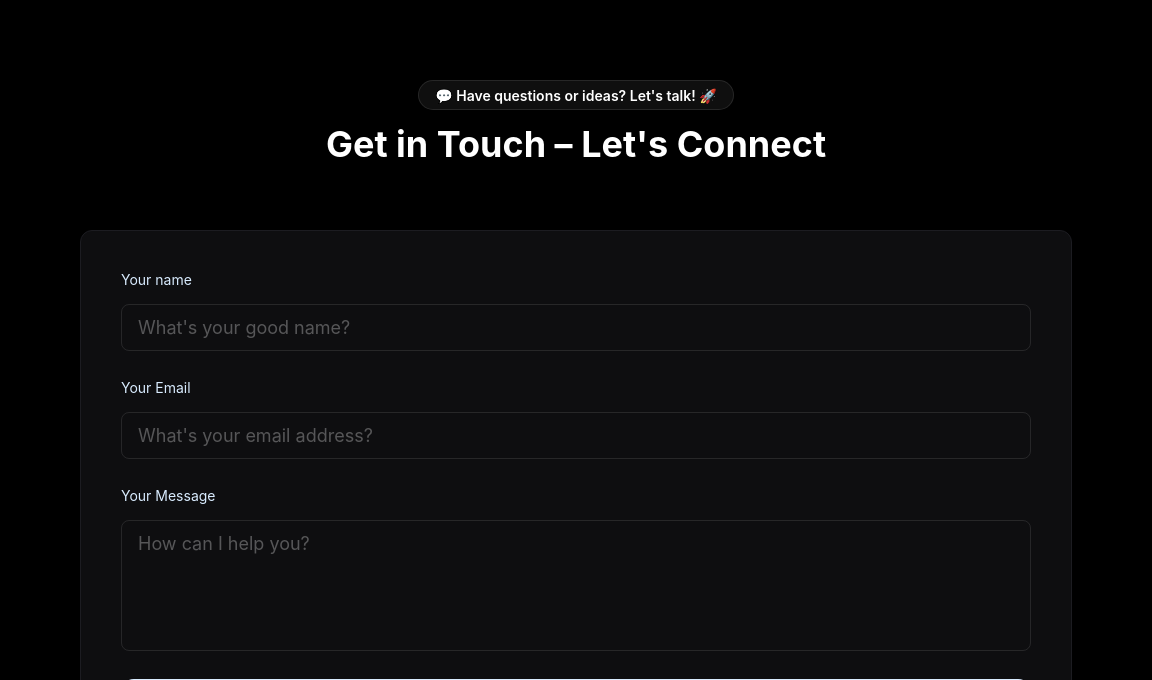
Test case: ContactComponent › email validation › should show format error when email has no @ symbol
The image size is (1152, 680).
Type "invalidemail" into the field named "email" at (576, 436), box [121, 412, 1031, 459]
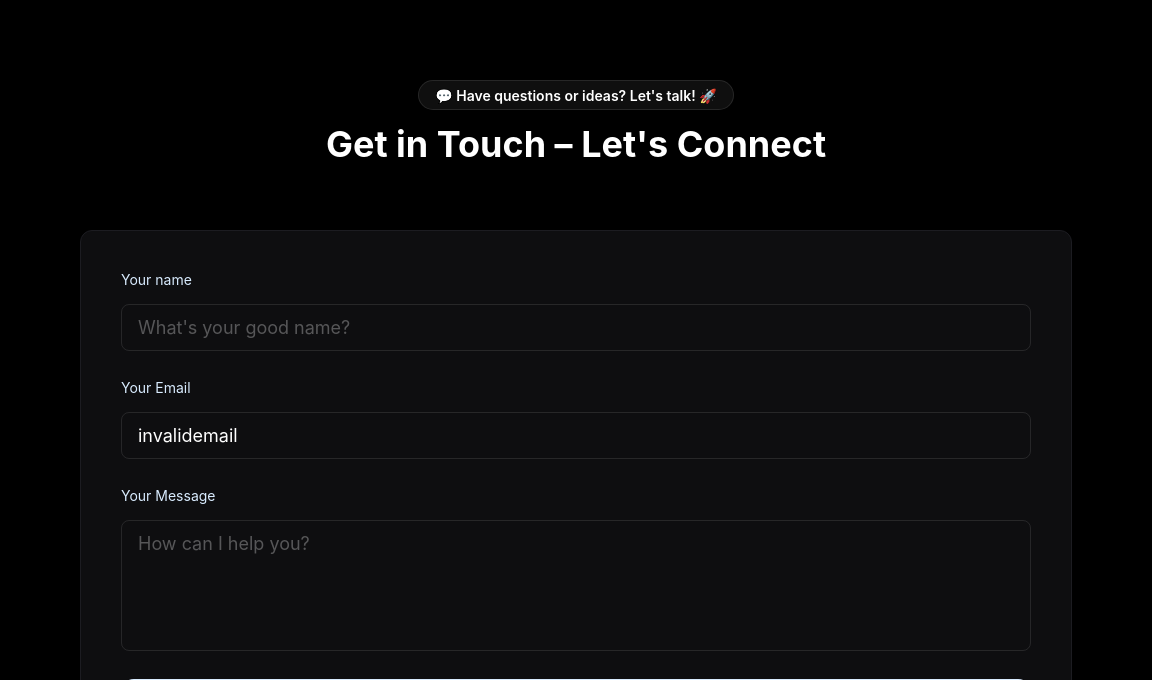
Leave the field named "email", box [121, 412, 1031, 459]
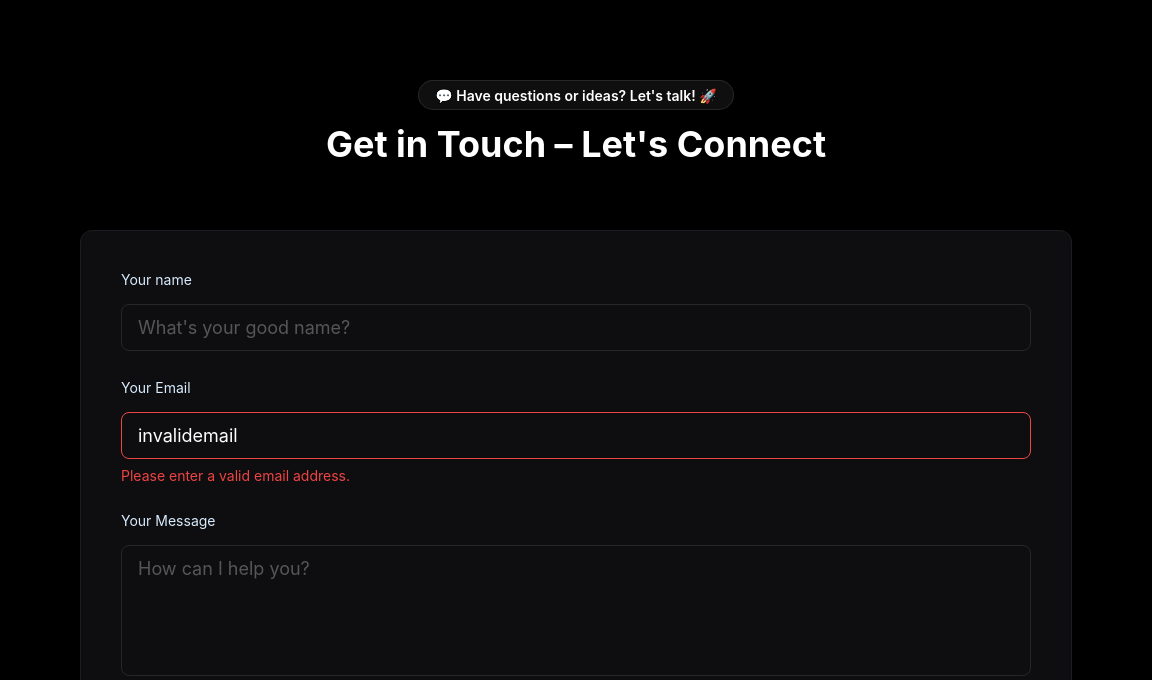
Now the text with class "field-error" reads "Please enter a valid email address.", box [121, 467, 350, 484]
